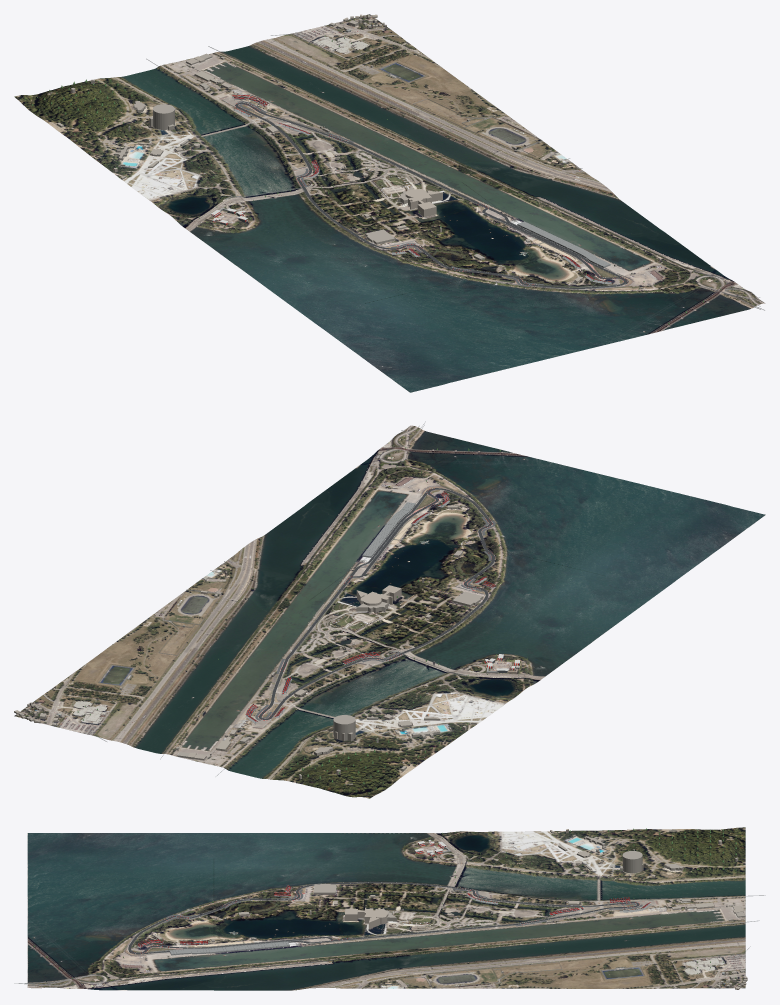
File: montreal.glb
3 renders of one model, top to bottom at view 1: azimuth 30°, elevation 25°; view 2: azimuth 150°, elevation 25°; view 3: azimuth 270°, elevation 25°, orthographic. The views are drawn at different scales.
Parts seen in each view (by area): view 1: Canada_HRDEM_Terrain_RealScale, Montreal_Current_OSM_HRDEM_Buildings, Montreal_OSM_Safety_Fences_And_Walls, FIA_Montreal_Centreline_10_5m, Montreal_2026_Event_Grandstands, Montreal_2026_43_Garage_Pit_Complex; view 2: Canada_HRDEM_Terrain_RealScale, Montreal_Current_OSM_HRDEM_Buildings, Montreal_OSM_Safety_Fences_And_Walls, FIA_Montreal_Centreline_10_5m, Montreal_2026_Event_Grandstands, Montreal_2026_43_Garage_Pit_Complex; view 3: Canada_HRDEM_Terrain_RealScale, Montreal_OSM_Safety_Fences_And_Walls, Montreal_Current_OSM_HRDEM_Buildings, FIA_Montreal_Centreline_10_5m, Montreal_2026_Event_Grandstands, Montreal_2026_43_Garage_Pit_Complex, Montreal_HRDEM_DSM_Tree_Groups, Montreal_FIA_Asphalt_Runoff.
Part boxes in pixels (left/top/right/bottom): Canada_HRDEM_Terrain_RealScale: left=14, top=14, right=765, bottom=392; Montreal_Current_OSM_HRDEM_Buildings: left=57, top=14, right=644, bottom=288; Montreal_OSM_Safety_Fences_And_Walls: left=48, top=30, right=764, bottom=310; FIA_Montreal_Centreline_10_5m: left=235, top=102, right=626, bottom=288; Montreal_2026_Event_Grandstands: left=232, top=94, right=611, bottom=283; Montreal_2026_43_Garage_Pit_Complex: left=517, top=221, right=610, bottom=267; Canada_HRDEM_Terrain_RealScale: left=14, top=425, right=765, bottom=798; Montreal_Current_OSM_HRDEM_Buildings: left=14, top=477, right=517, bottom=779; Montreal_OSM_Safety_Fences_And_Walls: left=93, top=421, right=499, bottom=784; FIA_Montreal_Centreline_10_5m: left=258, top=488, right=494, bottom=719; Montreal_2026_Event_Grandstands: left=245, top=491, right=496, bottom=724; Montreal_2026_43_Garage_Pit_Complex: left=362, top=502, right=415, bottom=557; Canada_HRDEM_Terrain_RealScale: left=27, top=827, right=745, bottom=990; Montreal_OSM_Safety_Fences_And_Walls: left=14, top=835, right=765, bottom=988; Montreal_Current_OSM_HRDEM_Buildings: left=111, top=829, right=747, bottom=989; FIA_Montreal_Centreline_10_5m: left=128, top=882, right=639, bottom=953; Montreal_2026_Event_Grandstands: left=137, top=885, right=651, bottom=948; Montreal_2026_43_Garage_Pit_Complex: left=169, top=941, right=289, bottom=955; Montreal_HRDEM_DSM_Tree_Groups: left=33, top=828, right=736, bottom=984; Montreal_FIA_Asphalt_Runoff: left=163, top=888, right=642, bottom=926.
Size of the model in its own units: 1415 by 70.5 by 2829.
21 materials, 1 textured.
